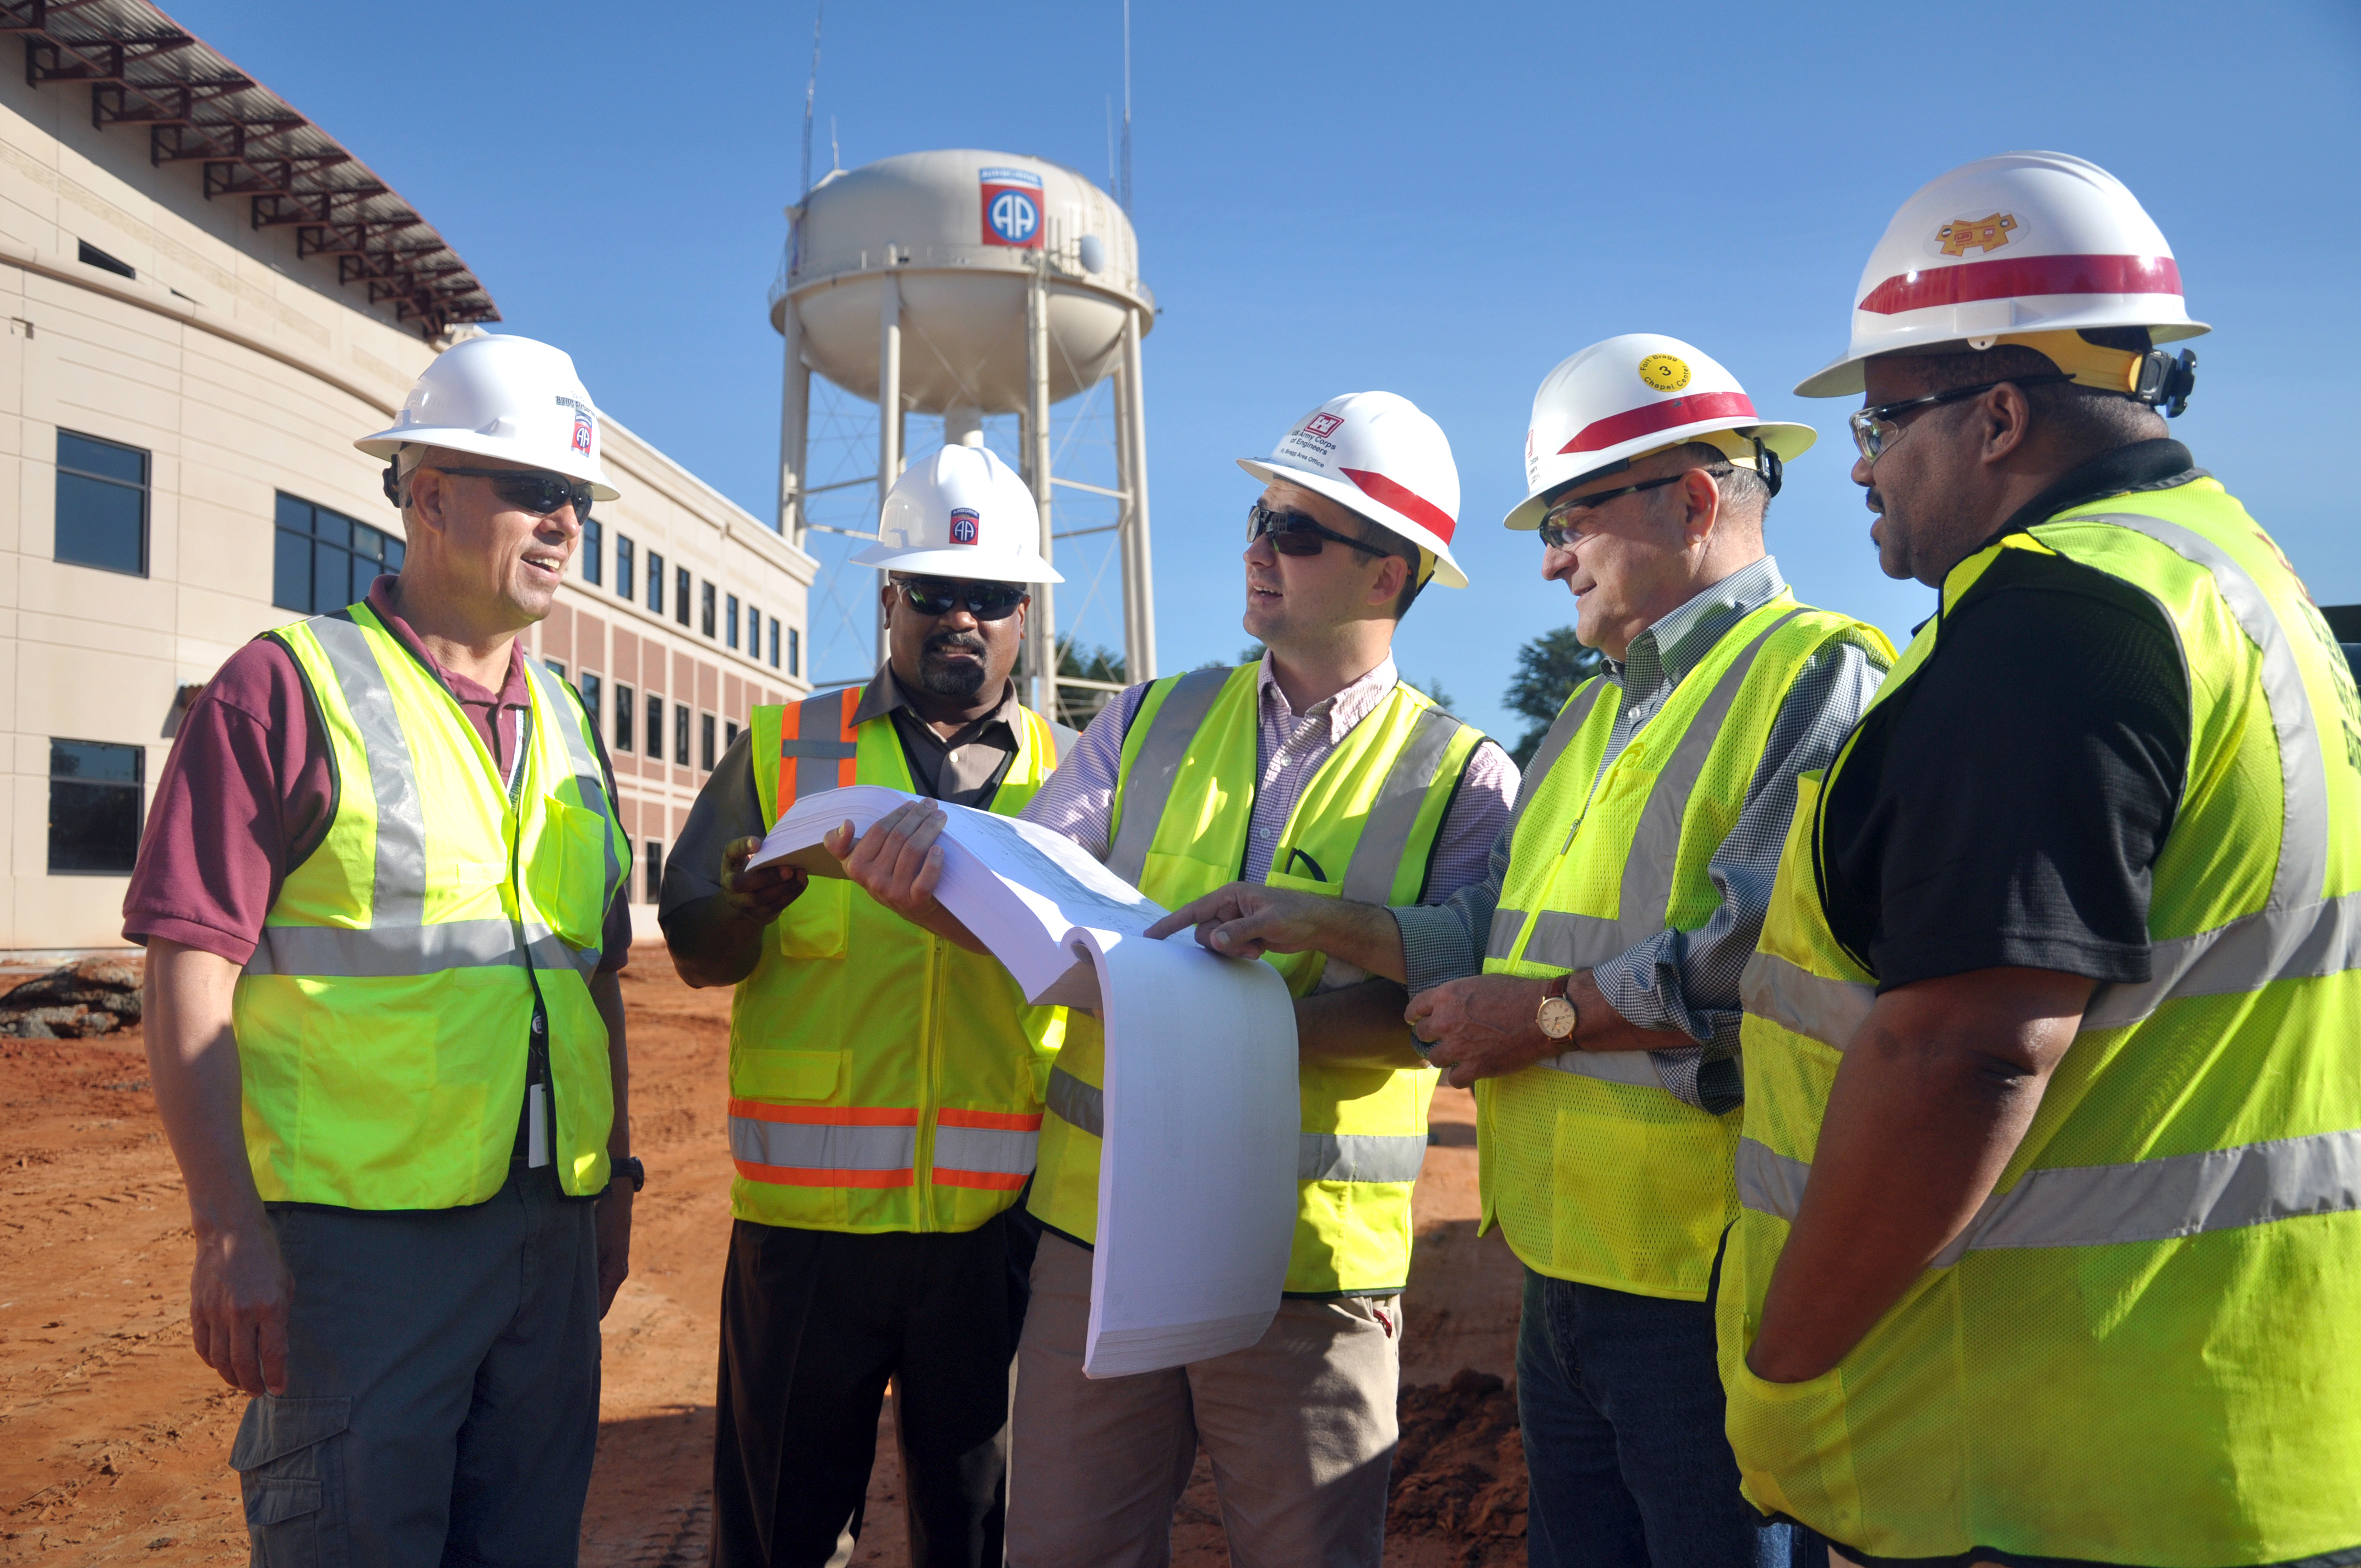helmet: (1850, 156, 2186, 343), (1528, 331, 1771, 476), (375, 331, 599, 476), (1257, 380, 1460, 539), (882, 430, 1057, 583)
